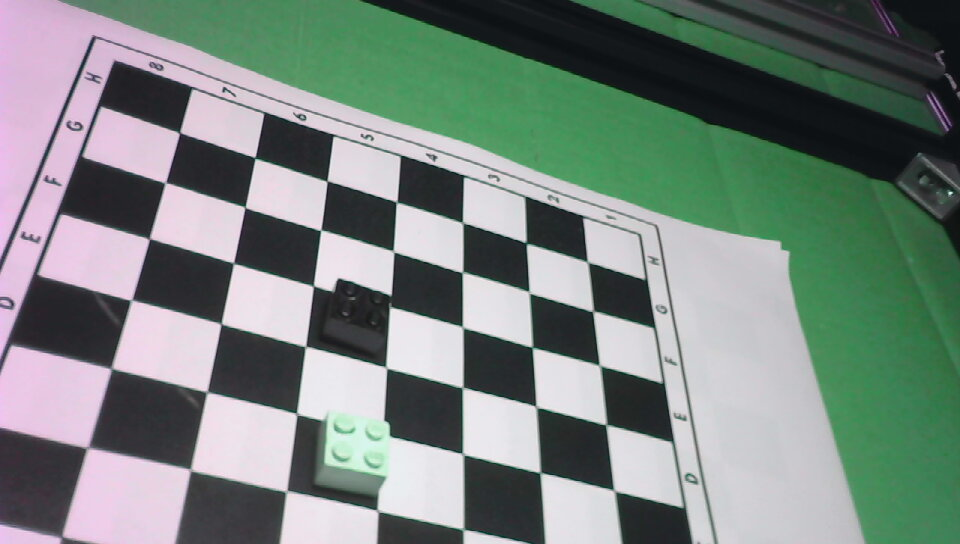bp: (318, 273, 393, 360)
